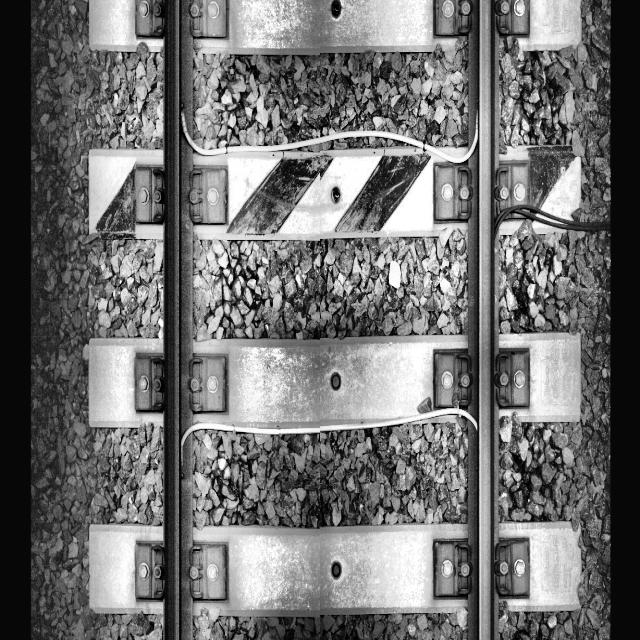Clips: (187, 533, 233, 608), (488, 158, 536, 224), (490, 531, 534, 603), (186, 349, 230, 418), (132, 531, 171, 606), (489, 344, 533, 410), (431, 529, 473, 598), (188, 162, 230, 230), (432, 343, 472, 411), (432, 156, 472, 223), (132, 156, 169, 227), (134, 350, 170, 416), (186, 2, 232, 42), (428, 0, 475, 39), (134, 0, 166, 42), (495, 0, 532, 34)
Sleepers: (88, 518, 590, 618), (88, 148, 587, 242), (89, 335, 584, 426), (87, 0, 584, 53)
